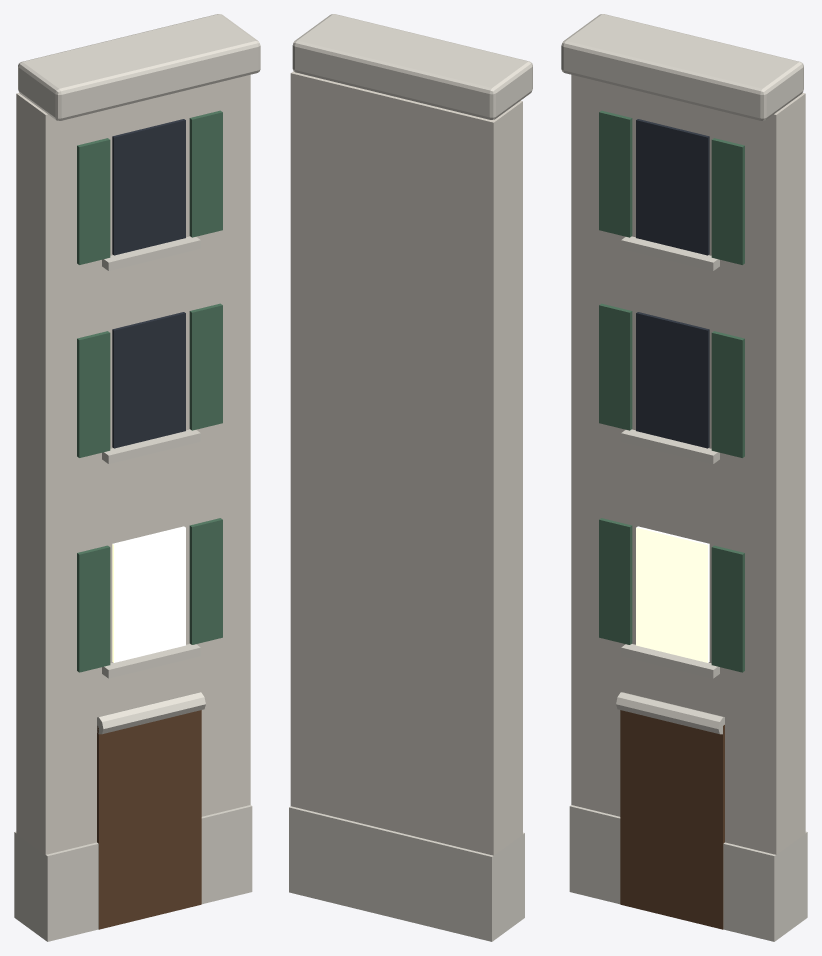
The model's file is DoorWhite.glb.
3 views of the same model, side by side, from view 1: azimuth 30°, elevation 25°; view 2: azimuth 150°, elevation 25°; view 3: azimuth 330°, elevation 25° (orthographic).
Visible parts, largest first — view 1: DoorWhite; view 2: DoorWhite; view 3: DoorWhite.
Boxes of the visible parts, x1=… form: DoorWhite: x1=14, y1=14, x2=260, y2=941; DoorWhite: x1=289, y1=14, x2=532, y2=941; DoorWhite: x1=561, y1=14, x2=807, y2=941.
Bounding box in the file's own units: 2 × 8 × 0.73.
